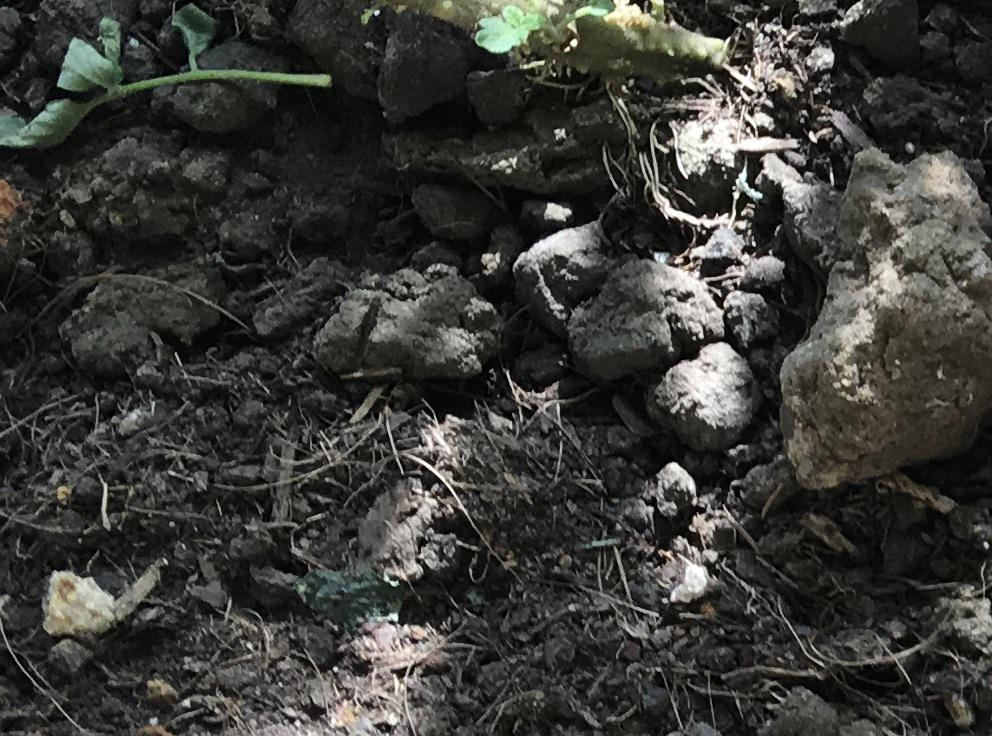block: (779, 145, 992, 496), (312, 257, 492, 379), (570, 256, 719, 386), (652, 338, 761, 457)
